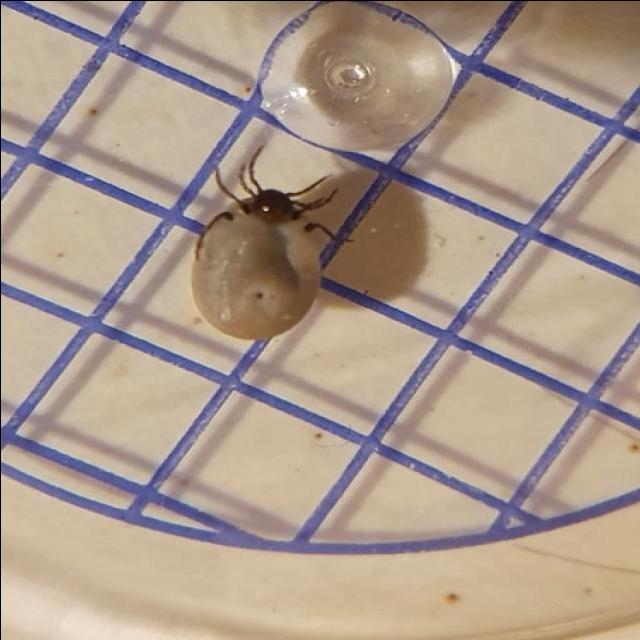Ixodes Ricinus-F-Fed: (189, 143, 340, 339)
